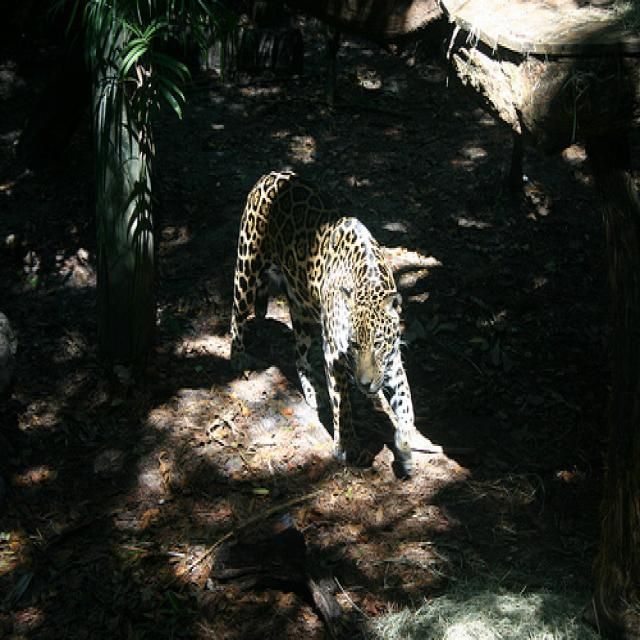Leopard: (228, 161, 421, 475)
